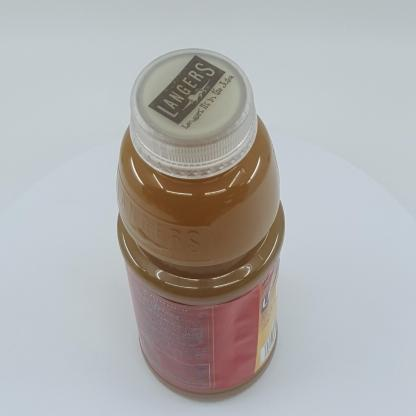-----449ML: (116, 48, 285, 402)
